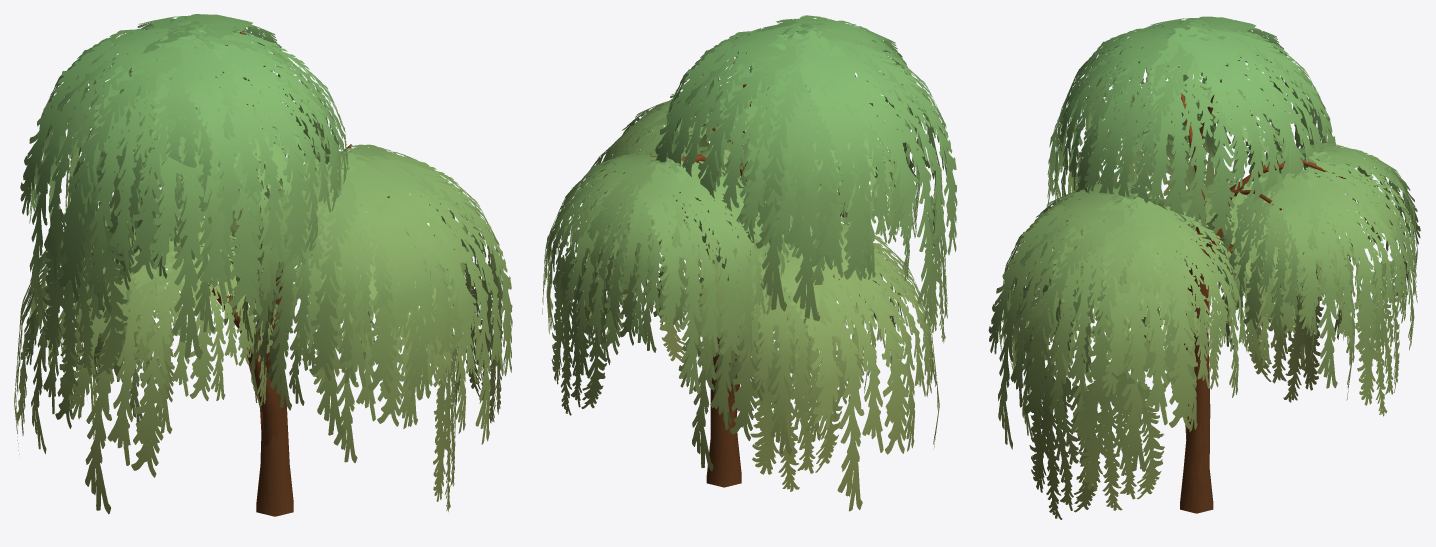
The model's file is tree.glb.
3 renders of one model, left to right at view 1: azimuth 30°, elevation 25°; view 2: azimuth 150°, elevation 25°; view 3: azimuth 270°, elevation 25°, orthographic. The views are drawn at different scales.
Visible parts, largest first — view 1: WillowTree2; view 2: WillowTree2; view 3: WillowTree2.
Part boxes in pixels (x1,y1,x2,y2): WillowTree2: (14,14,512,516); WillowTree2: (542,15,957,511); WillowTree2: (988,16,1420,519).
Bounding box in the file's own units: 14.01 × 16.33 × 14.58.
Materials: 2 (2 with a texture image).
